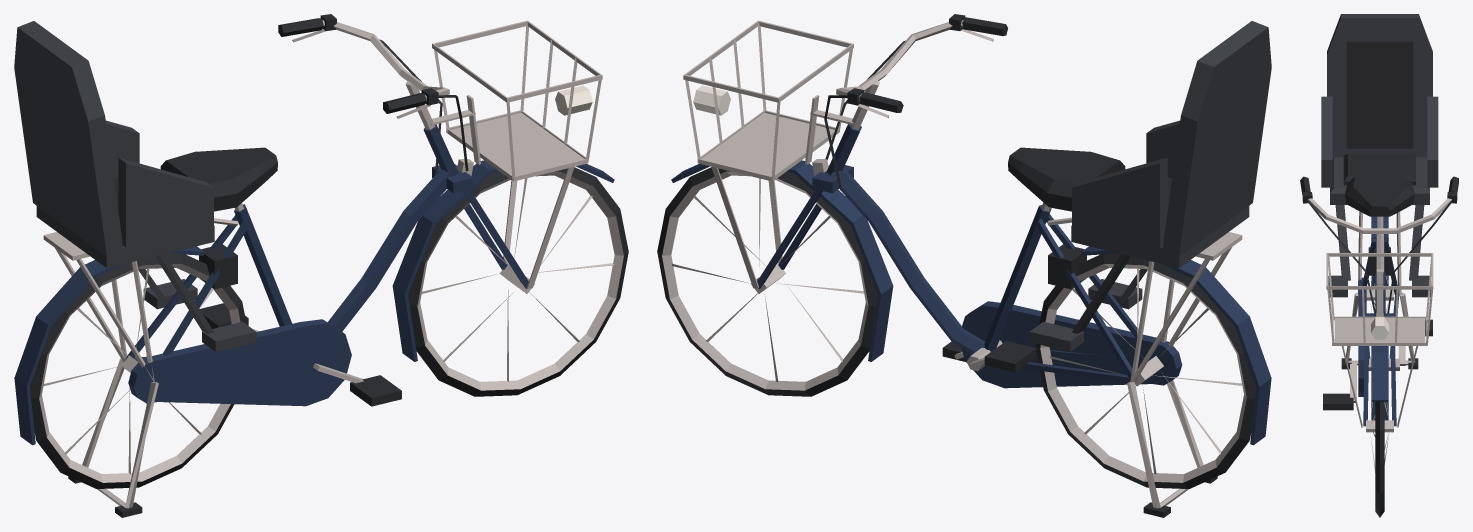
Rendered from SM_Street_Bicycle_Child_Navy_01.gltf.
The picture shows the model from 3 angles, left to right: view 1: azimuth 30°, elevation 25°; view 2: azimuth 150°, elevation 25°; view 3: azimuth 270°, elevation 25°; orthographic projection. The views are drawn at different scales.
Parts seen in each view (by area): view 1: SM_Street_Bicycle_Child_Navy_01; view 2: SM_Street_Bicycle_Child_Navy_01; view 3: SM_Street_Bicycle_Child_Navy_01.
Part boxes in pixels (x1=…): SM_Street_Bicycle_Child_Navy_01: x1=14, y1=14, x2=628, y2=517; SM_Street_Bicycle_Child_Navy_01: x1=657, y1=14, x2=1271, y2=517; SM_Street_Bicycle_Child_Navy_01: x1=1300, y1=14, x2=1458, y2=517.
Size of the model in its own units: 1.8 by 1.32 by 0.5707.
1 material, 1 textured.
